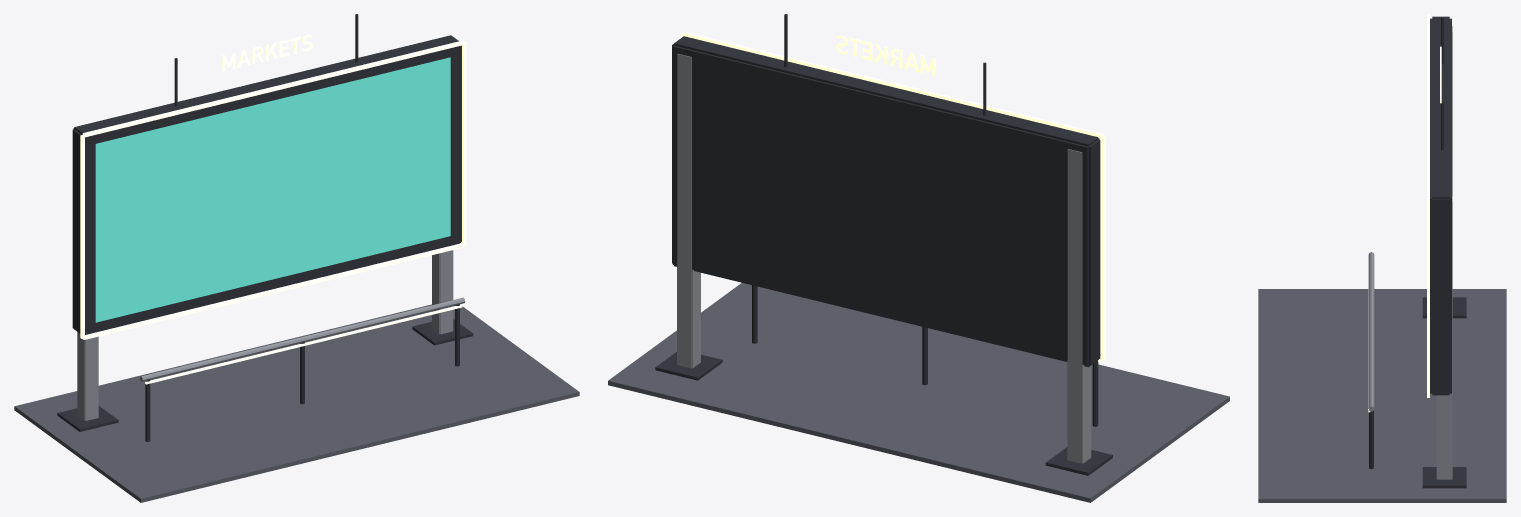
File: candle_board.glb
3 views of the same model, side by side, from view 1: azimuth 30°, elevation 25°; view 2: azimuth 150°, elevation 25°; view 3: azimuth 270°, elevation 25° (orthographic). The views are drawn at different scales.
Visible parts, largest first — view 1: CandleScreen, Deck, Foot, Frame glow, Leg; view 2: Foot, Deck, Leg, Frame glow; view 3: Deck, Foot, Leg, Frame glow.
Boxes of the visible parts, x1,y1,x2,y2 form: CandleScreen: (95,57,450,322); Deck: (14,304,579,502); Foot: (57,14,473,441); Frame glow: (80,34,466,384); Leg: (77,250,465,420); Foot: (655,14,1112,475); Deck: (608,283,1229,502); Leg: (677,53,1100,463); Frame glow: (680,31,1105,361); Deck: (1258,289,1506,502); Foot: (1369,16,1466,488); Leg: (1368,26,1452,479); Frame glow: (1368,14,1441,412).
Size of the model in its own units: 6.8 by 5.1 by 3.4.
